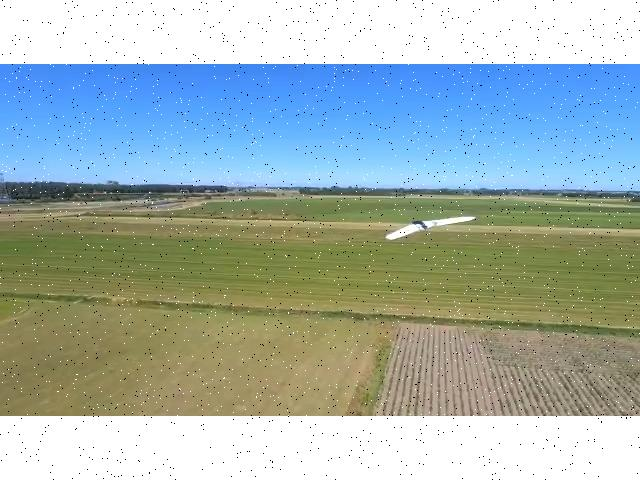Anti-Drone: (383, 202, 477, 252)
